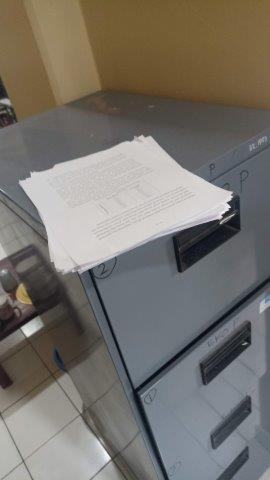kertas: (22, 135, 236, 263)
